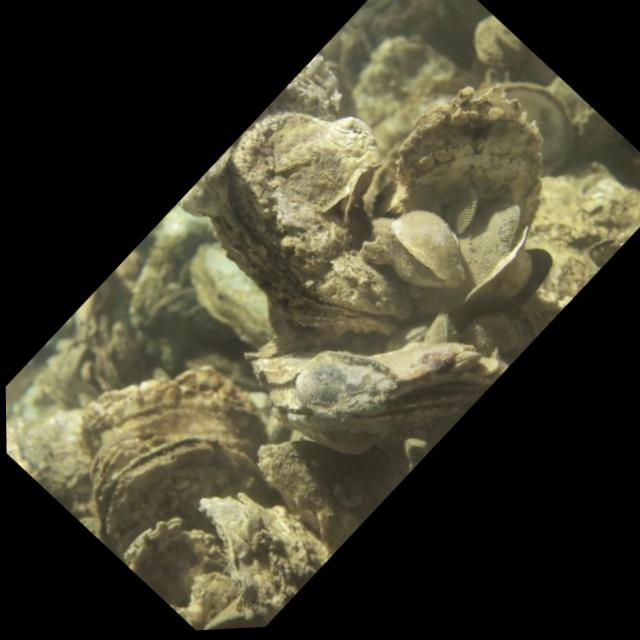Oyster-Closed: (179, 108, 416, 337), (98, 432, 295, 565), (394, 82, 544, 224), (257, 438, 399, 556), (196, 493, 317, 623), (269, 386, 480, 455), (123, 512, 239, 630), (186, 239, 305, 352), (240, 327, 395, 390), (373, 209, 468, 291), (457, 309, 523, 358), (441, 185, 481, 237), (420, 309, 458, 344), (441, 348, 481, 372)
Oyster-Indeterminate: (74, 362, 269, 518), (292, 348, 398, 415)
Oyster-Open: (454, 204, 534, 304)
